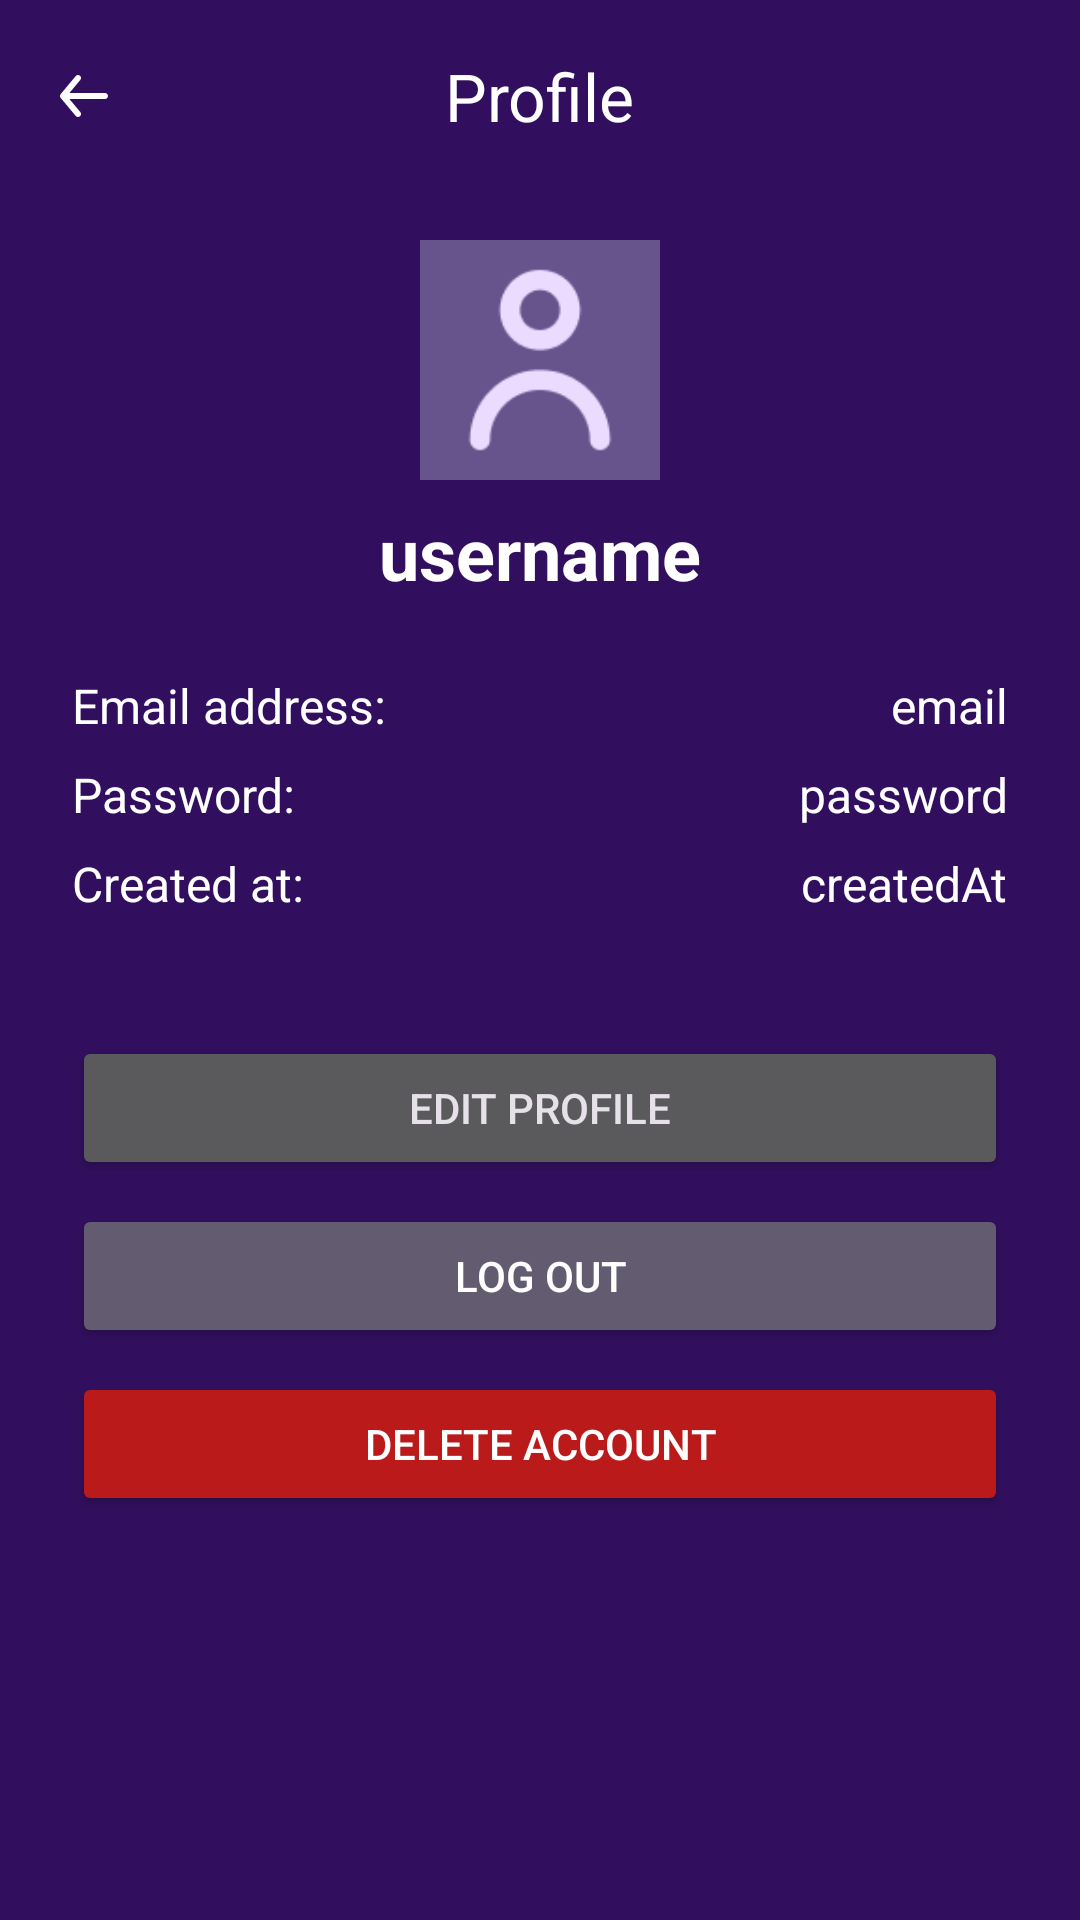

Icons on this 1080 × 1920 Android screen, each with its box as bbox(x1, y1, x2, y2):
person: bbox(420, 240, 660, 480)
